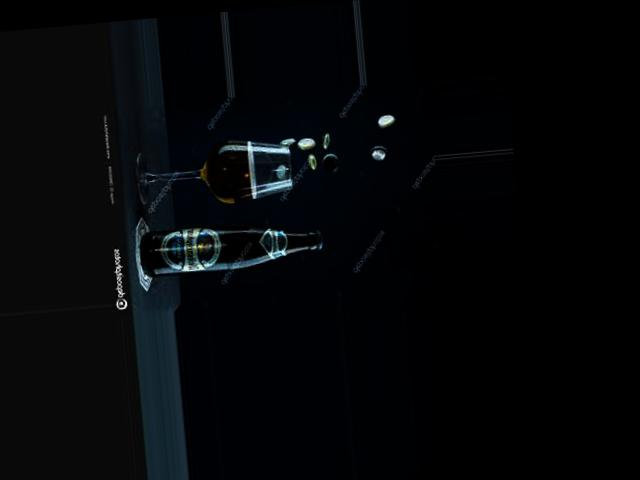beer: (140, 217, 322, 275)
